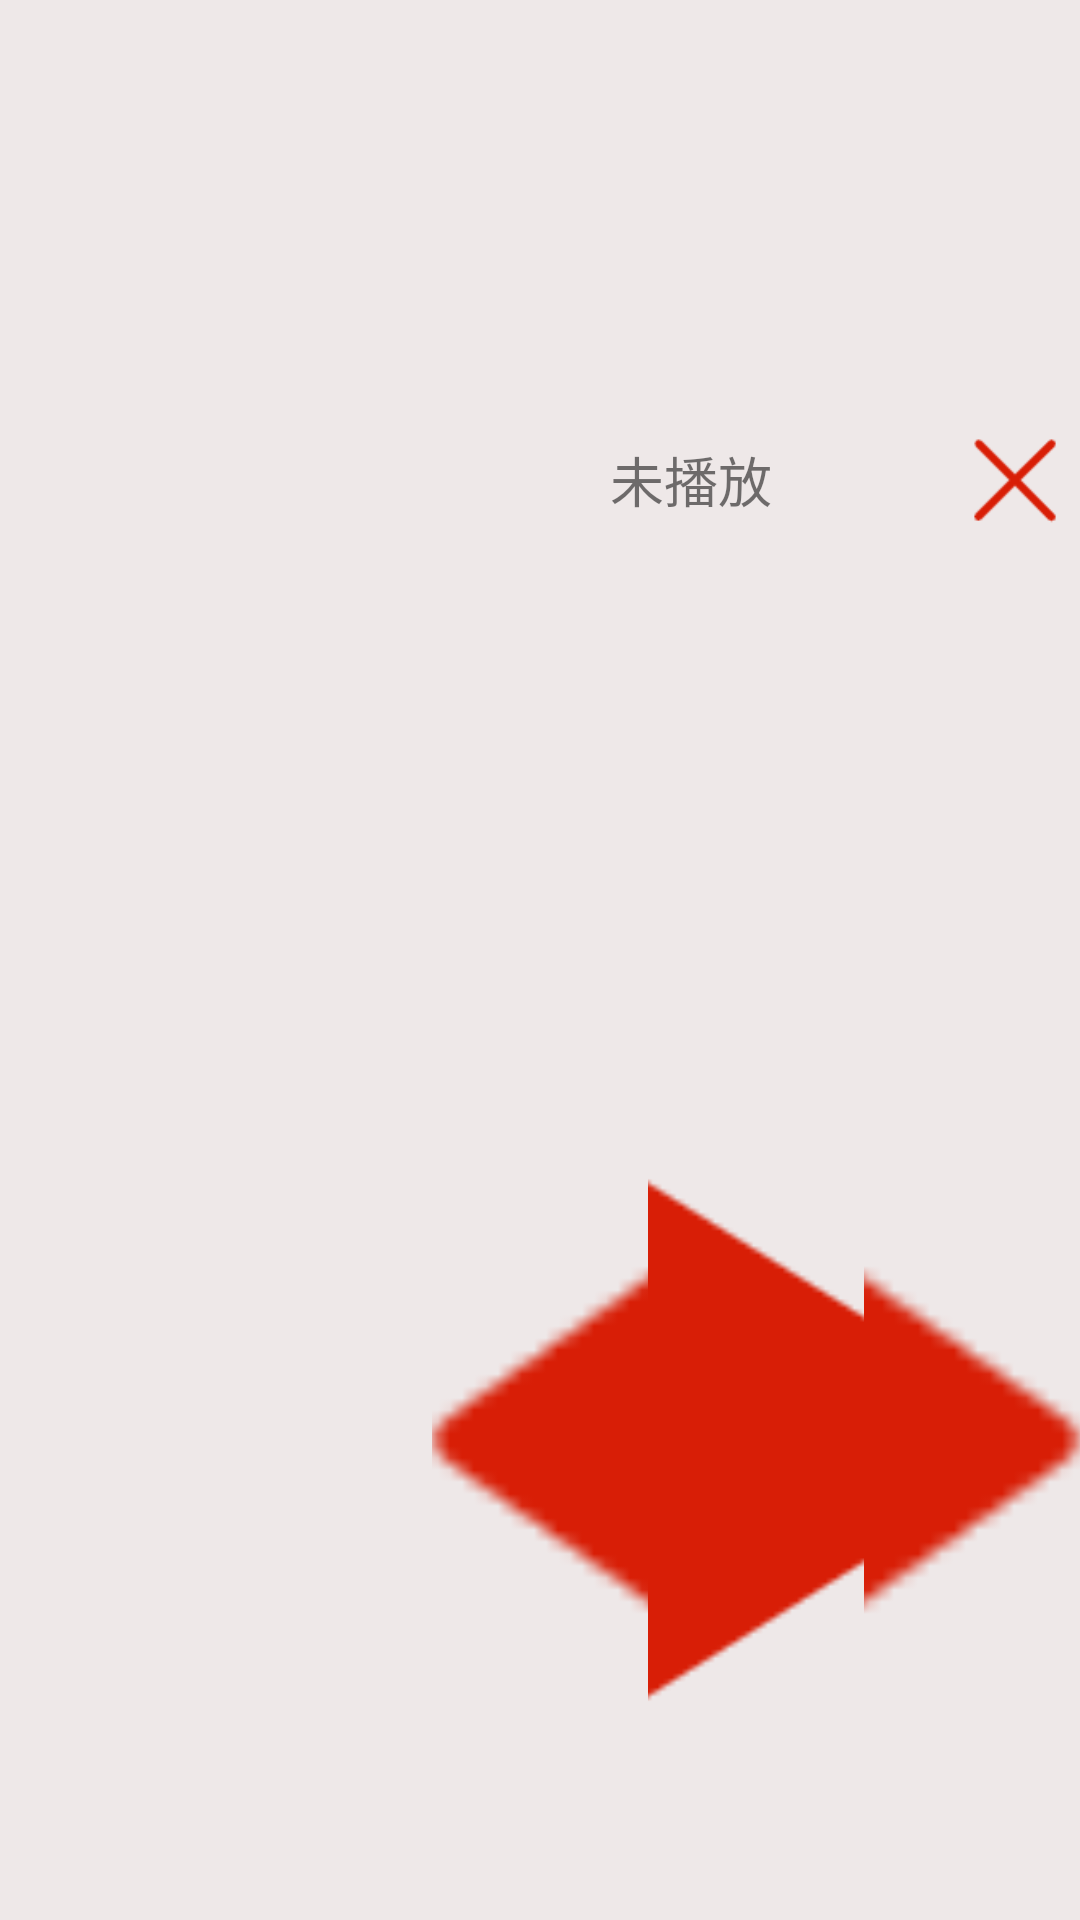

Screen size 1080px x 1920px. Icon name, then its center in pixels as [x,y]:
exit: [1015,480]
